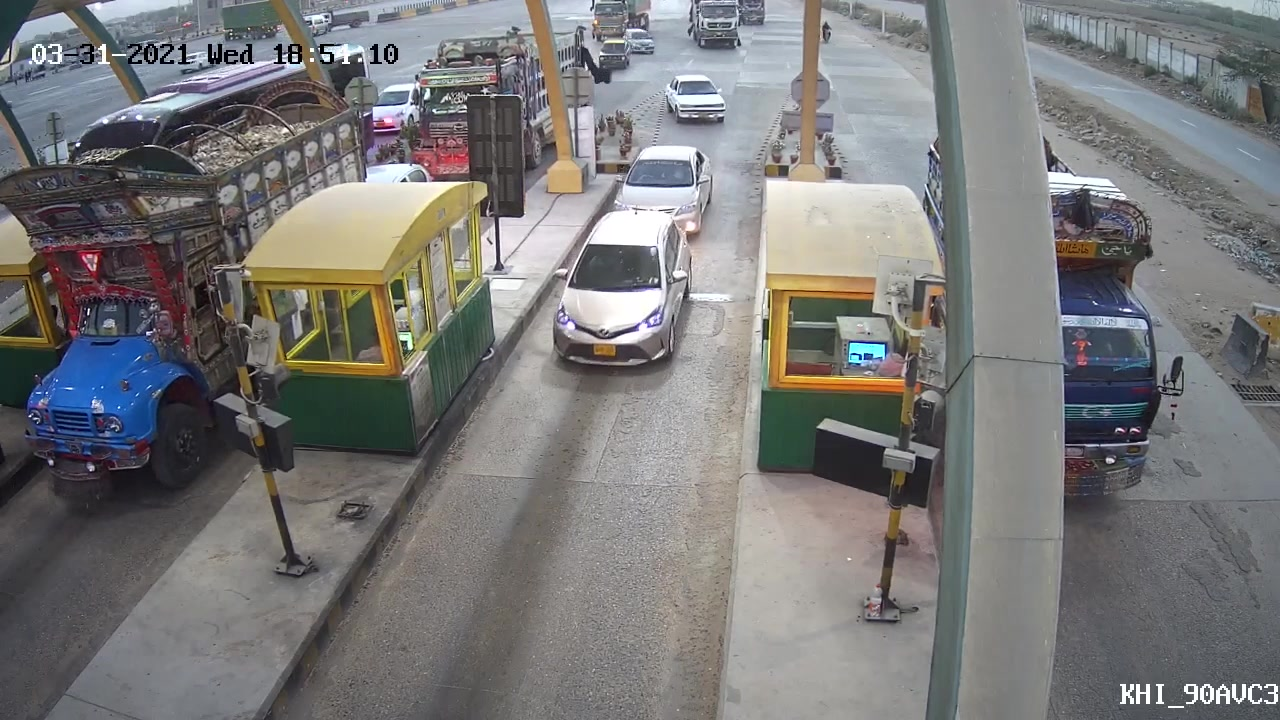F1: (539, 204, 696, 383)
